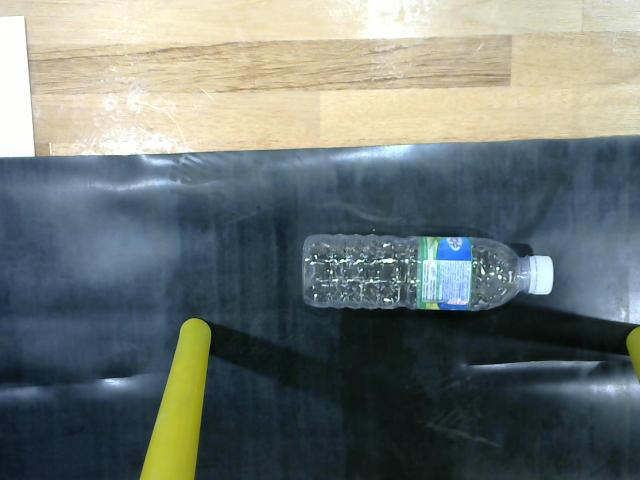bottle: (294, 223, 562, 316)
